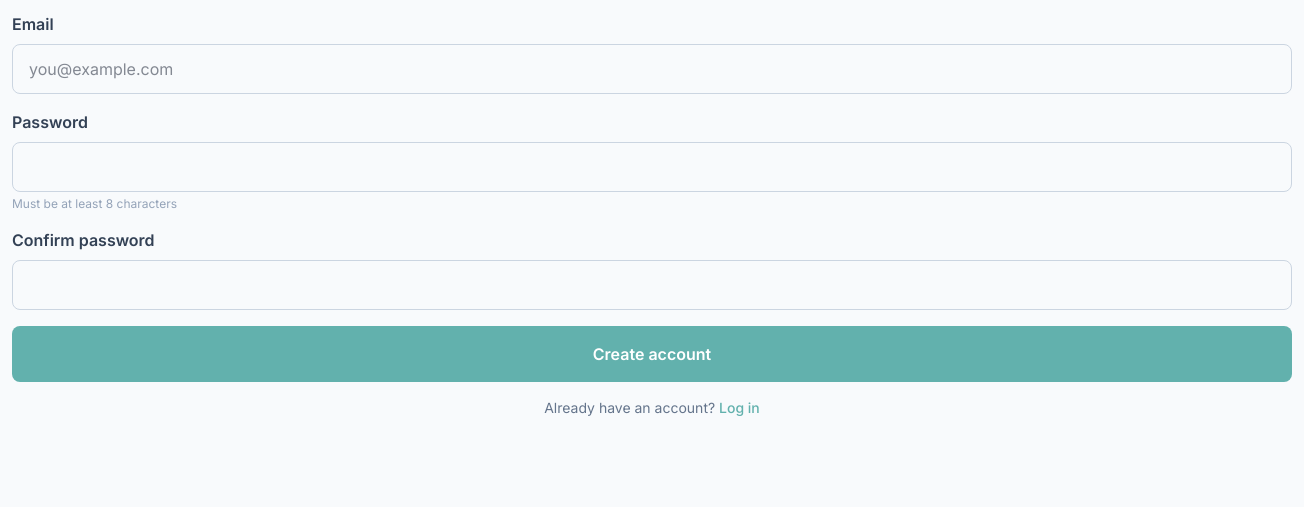
Scenario: SignupForm › should show error when password is less than 8 characters
Type "test@example.com" into the field labelled "Email". click: (652, 69)
box: [12,44,1292,94]
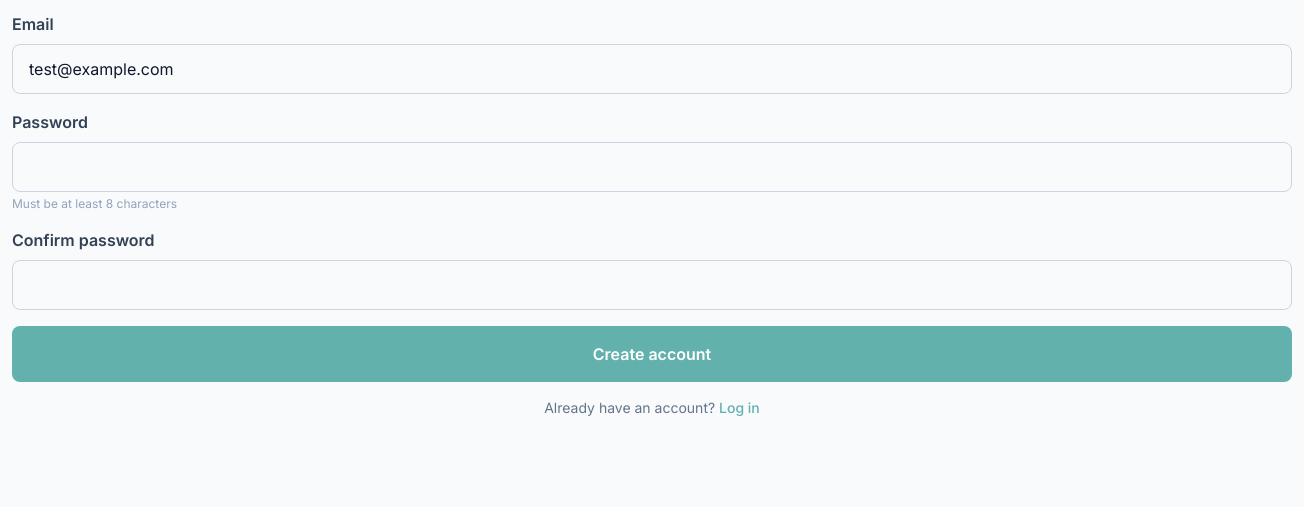
Type "short" into the password field labelled "Password". click: (652, 167)
box: [12,142,1292,192]
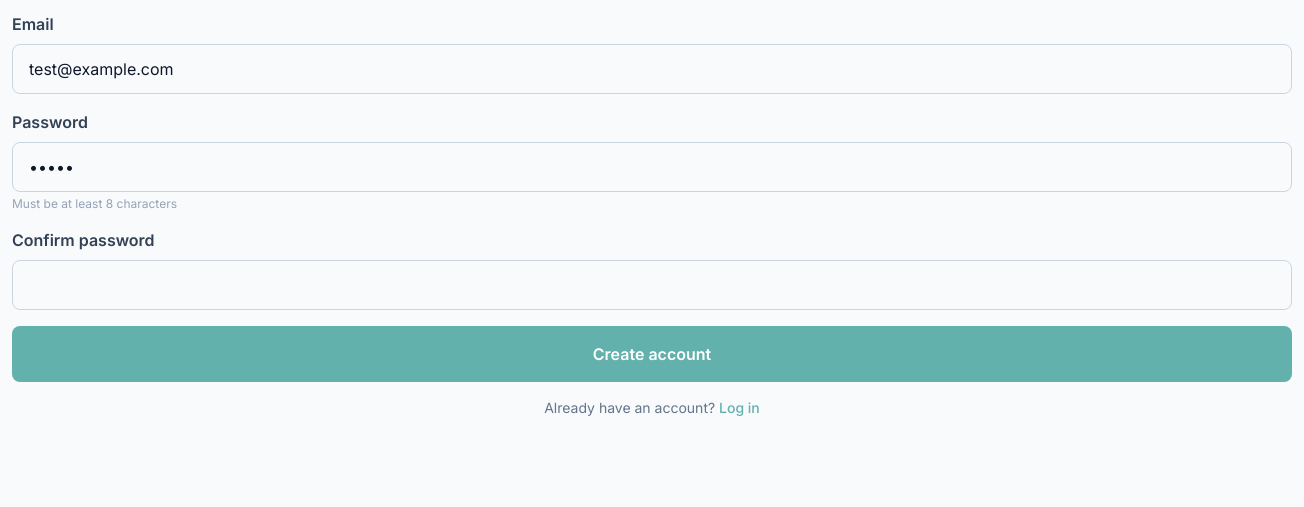
Type "short" into the password field labelled "Confirm password". click: (652, 285)
box: [12,260,1292,310]
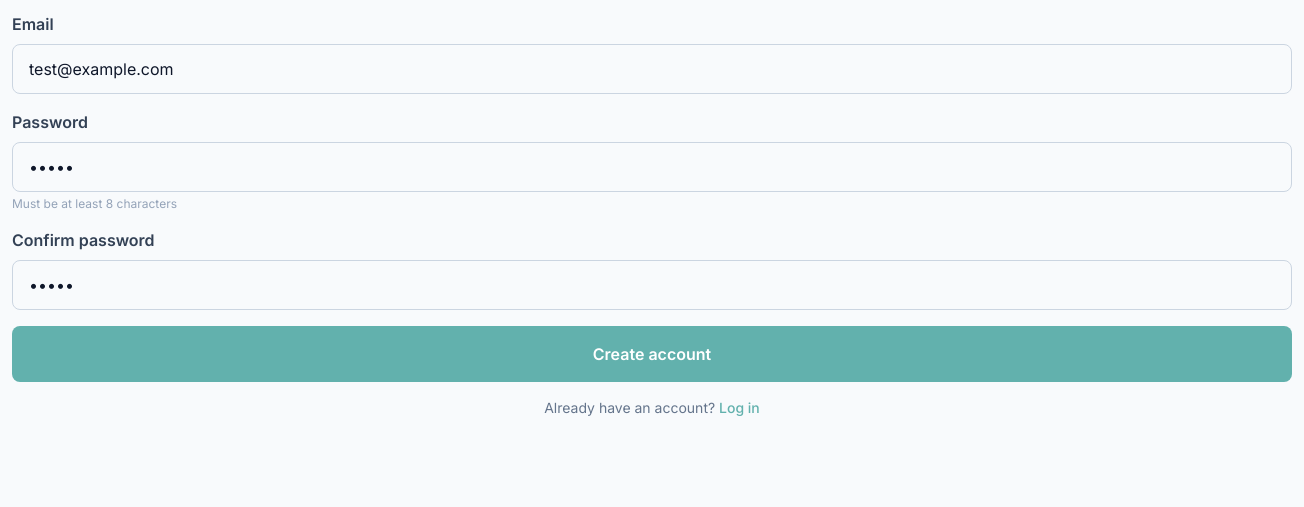
Click the button "Create account". click: (652, 354)
box: [12,326,1292,382]
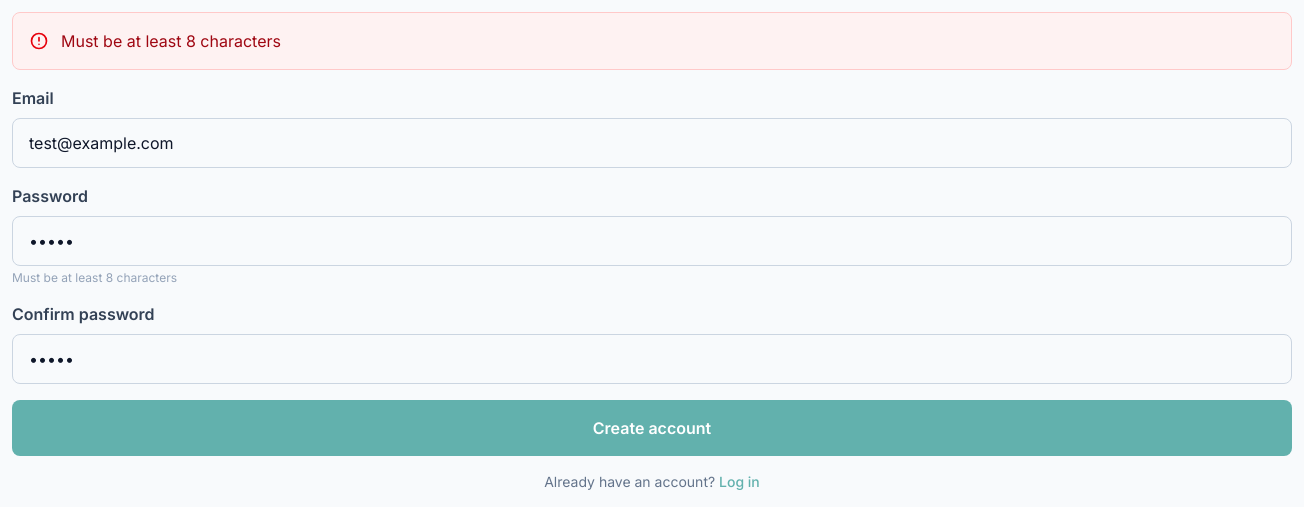
Result: the message reads "Must be at least 8 characters" at [61,31,281,51]
